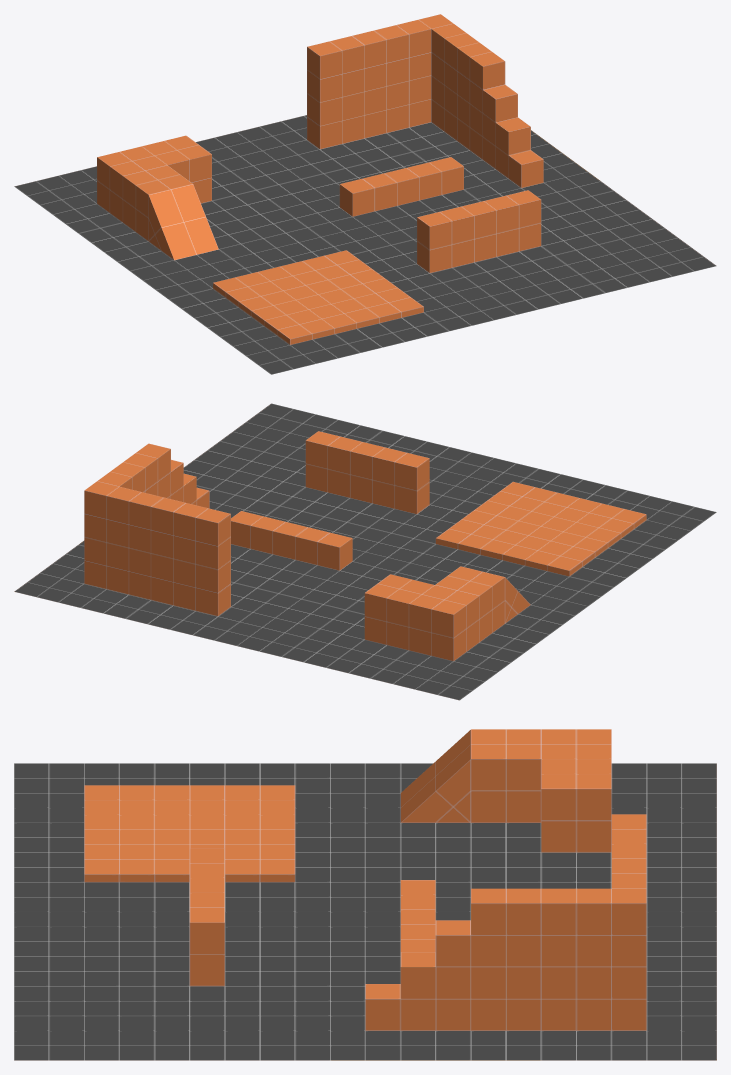
Rendered from arena_1.glb.
The picture shows the model from 3 angles, top to bottom: view 1: azimuth 30°, elevation 25°; view 2: azimuth 150°, elevation 25°; view 3: azimuth 270°, elevation 25°; orthographic projection. The views are drawn at different scales.
Visible parts, largest first — view 1: Grid; view 2: Grid; view 3: Grid.
Boxes of the visible parts, <box> form: Grid: <box>14,14,716,374</box>; Grid: <box>14,403,716,700</box>; Grid: <box>14,729,716,1060</box>.
Size of the model in its own units: 20 by 4 by 20.
1 material, 1 textured.
